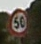limite 50: (8, 7, 28, 37)
